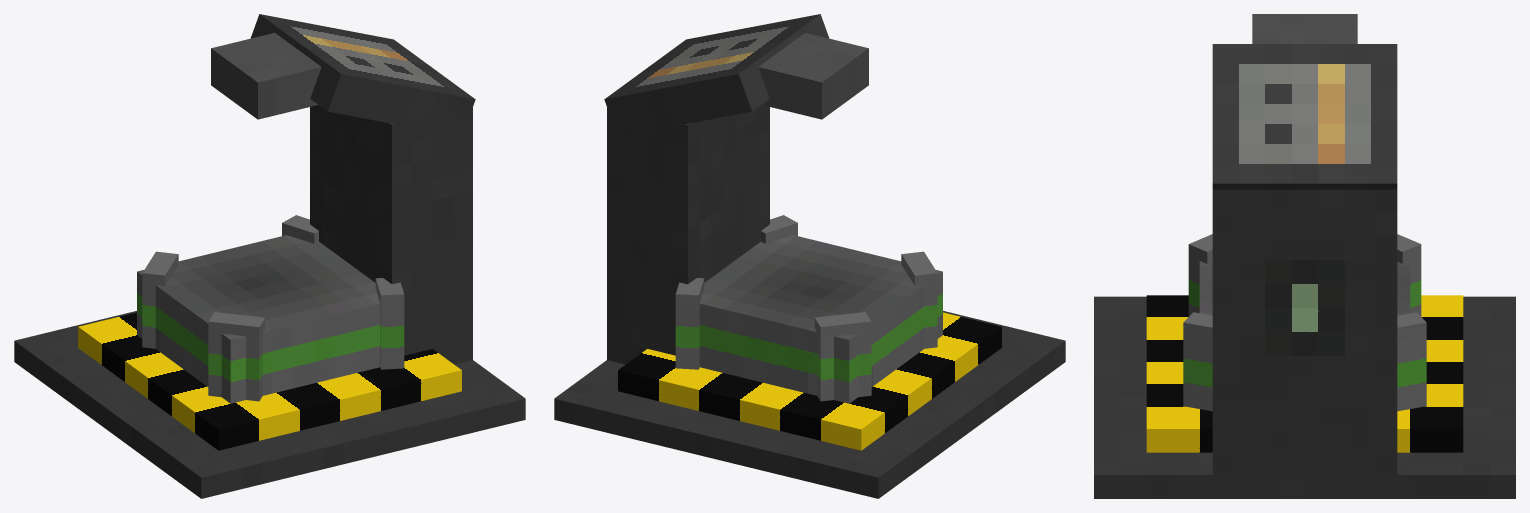
The model's file is centrifugeStand.obj.
3 renders of one model, left to right at view 1: azimuth 30°, elevation 25°; view 2: azimuth 150°, elevation 25°; view 3: azimuth 270°, elevation 25°, orthographic. The views are drawn at different scales.
Visible parts, largest first — view 1: cube; view 2: cube; view 3: cube.
Boxes of the visible parts, x1,y1,x2,y2 form: cube: (14, 14, 525, 498); cube: (554, 14, 1065, 498); cube: (1094, 14, 1515, 498).
Size of the model in its own units: 16.13 by 16 by 16.
